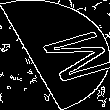M_W: (10, 24, 100, 86)
